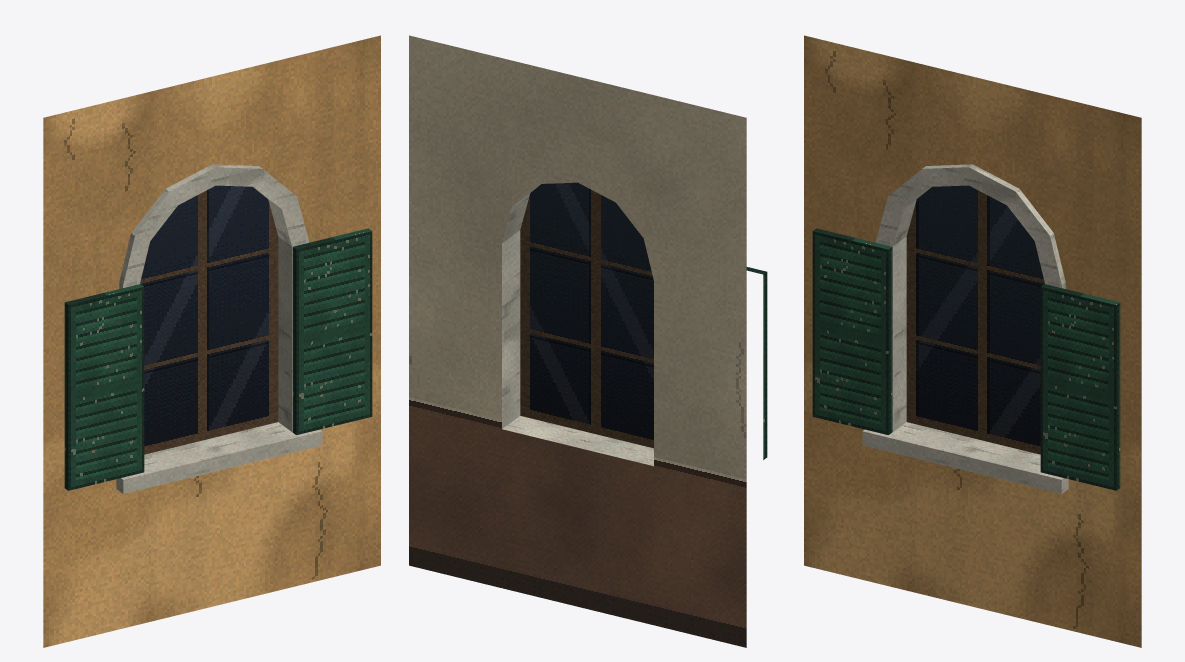
Rendered from ext_window_arch.gltf.
3 renders of one model, left to right at view 1: azimuth 30°, elevation 25°; view 2: azimuth 150°, elevation 25°; view 3: azimuth 330°, elevation 25°, orthographic.
Visible parts, largest first — view 1: ext_window_arch; view 2: ext_window_arch; view 3: ext_window_arch.
Boxes of the visible parts, x1,y1,x2,y2 form: ext_window_arch: (43,35,380,647); ext_window_arch: (409,35,767,647); ext_window_arch: (804,35,1141,647).
Size of what is drawn, in the model's own units: 2 by 3 by 0.41.
5 materials, 5 textured.
